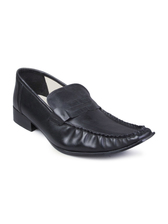shoes: (11, 65, 156, 163)
